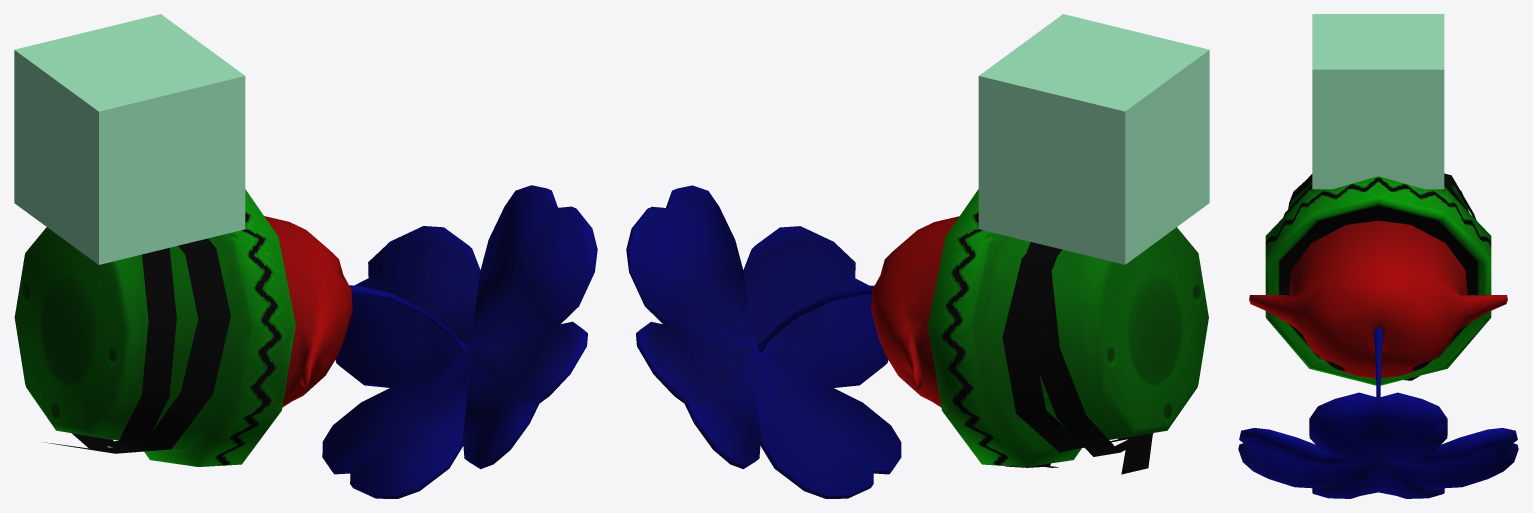
3 renders of one model, left to right at view 1: azimuth 30°, elevation 25°; view 2: azimuth 150°, elevation 25°; view 3: azimuth 270°, elevation 25°, orthographic. The views are drawn at different scales.
Parts seen in each view (by area): view 1: object0004_X655A, object0110_Box; view 2: object0004_X655A, object0110_Box; view 3: object0004_X655A, object0110_Box.
Part boxes in pixels (left/top/right/bottom): object0004_X655A: left=14, top=185, right=597, bottom=498; object0110_Box: left=14, top=14, right=245, bottom=264; object0004_X655A: left=626, top=185, right=1208, bottom=498; object0110_Box: left=978, top=14, right=1209, bottom=264; object0004_X655A: left=1238, top=173, right=1518, bottom=498; object0110_Box: left=1312, top=14, right=1444, bottom=189.
Size of the model in its own units: 1.22 by 1.08 by 0.744.
